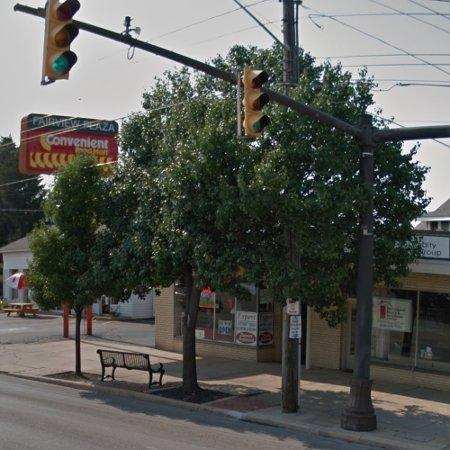traffic lights: (41, 0, 80, 85)
